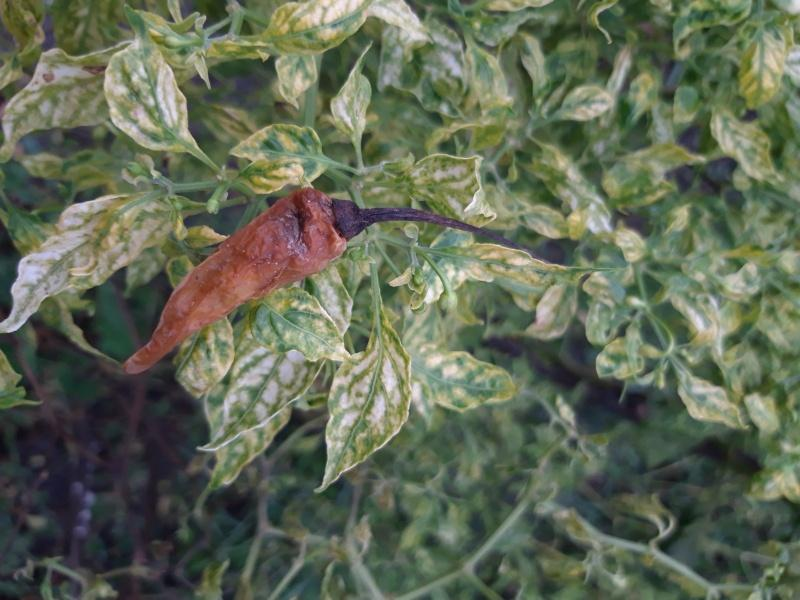antraknosa: (123, 188, 354, 377)
